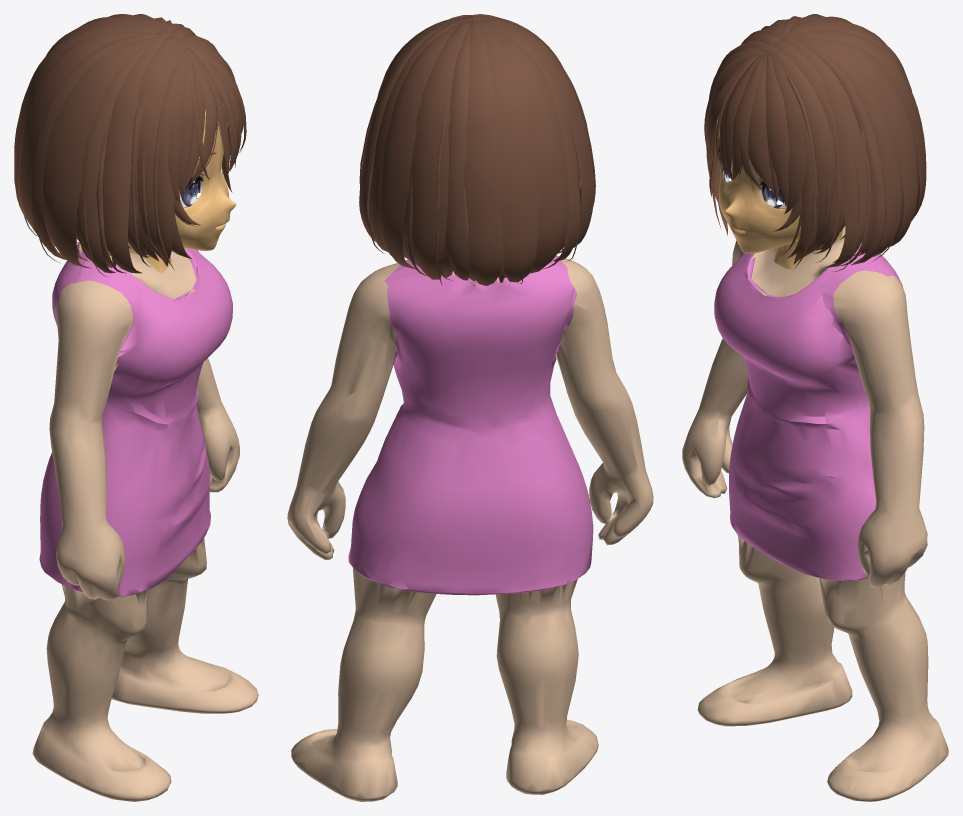
The model's file is home.glb.
3 renders of one model, left to right at view 1: azimuth 30°, elevation 25°; view 2: azimuth 150°, elevation 25°; view 3: azimuth 270°, elevation 25°, orthographic. The views are drawn at different scales.
Visible parts, largest first — view 1: part_8.006; view 2: part_8.006; view 3: part_8.006.
Boxes of the visible parts, box(x1,y1,x2,y2) form: part_8.006: box(14, 14, 258, 801); part_8.006: box(287, 14, 653, 801); part_8.006: box(682, 14, 948, 801).
Bounding box in the file's own units: 2.04 × 5.19 × 1.77.
12 materials, 7 textured.
